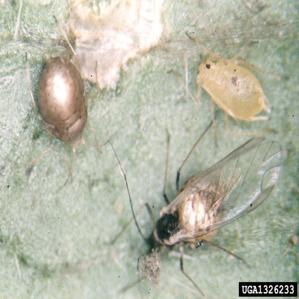Green peach aphid: (113, 117, 288, 296), (179, 43, 285, 134)
